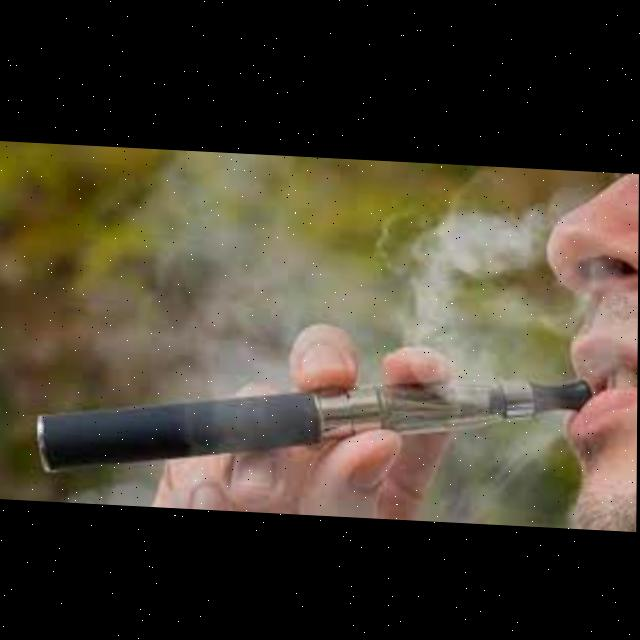vape: (38, 354, 597, 496)
